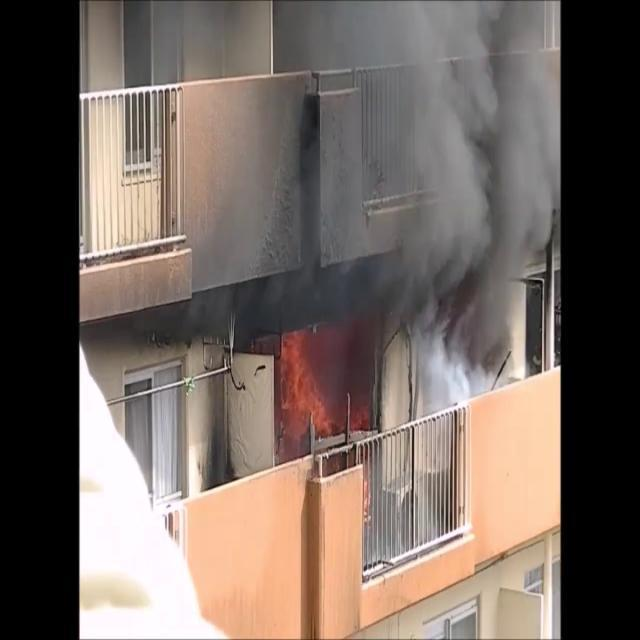Smoke: (182, 2, 560, 396)
